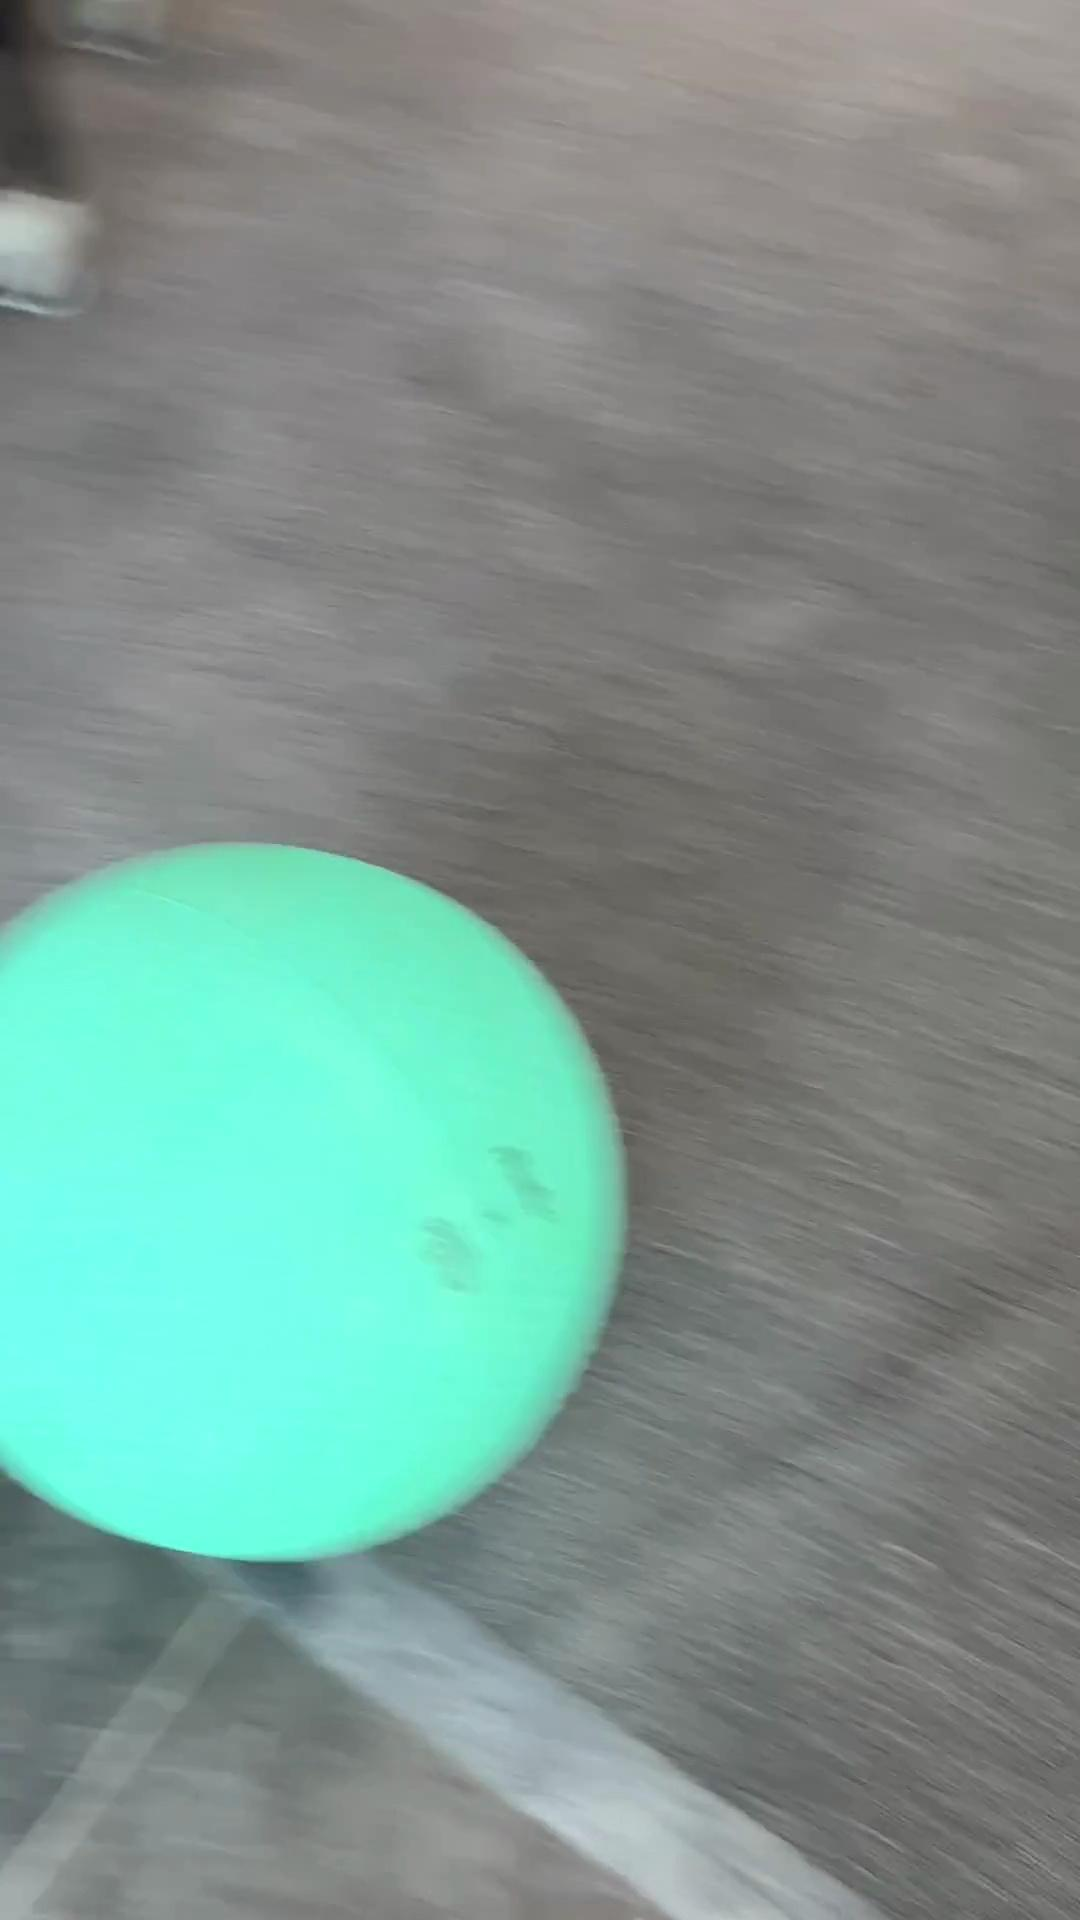ALGAE: (1, 837, 630, 1565)
